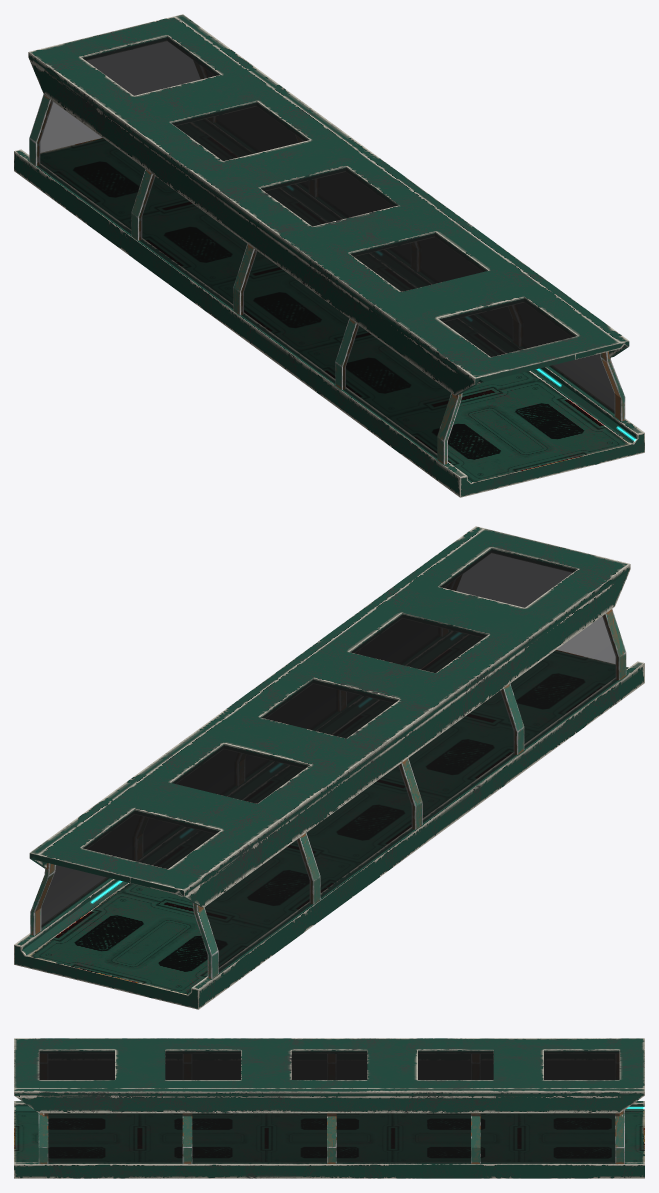
Rendered from scifi_bridge.glb.
The picture shows the model from 3 angles, top to bottom: view 1: azimuth 30°, elevation 25°; view 2: azimuth 150°, elevation 25°; view 3: azimuth 270°, elevation 25°; orthographic projection. The views are drawn at different scales.
Visible parts, largest first — view 1: Top, ground, glass1, pillars; view 2: Top, ground, glass1, pillars; view 3: ground, glass1, Top, pillars.
Boxes of the visible parts, x1,y1,x2,y2 form: Top: (28, 14, 629, 395); ground: (14, 138, 644, 497); glass1: (37, 37, 614, 457); pillars: (29, 94, 625, 464); Top: (29, 526, 630, 907); ground: (14, 650, 644, 1009); glass1: (41, 549, 618, 972); pillars: (30, 609, 626, 978); ground: (14, 1101, 644, 1178); glass1: (39, 1051, 619, 1163); Top: (14, 1038, 644, 1113); pillars: (38, 1110, 624, 1163).
Size of the model in its own units: 15.62 by 9.35 by 65.39.
3 materials, 2 textured.
